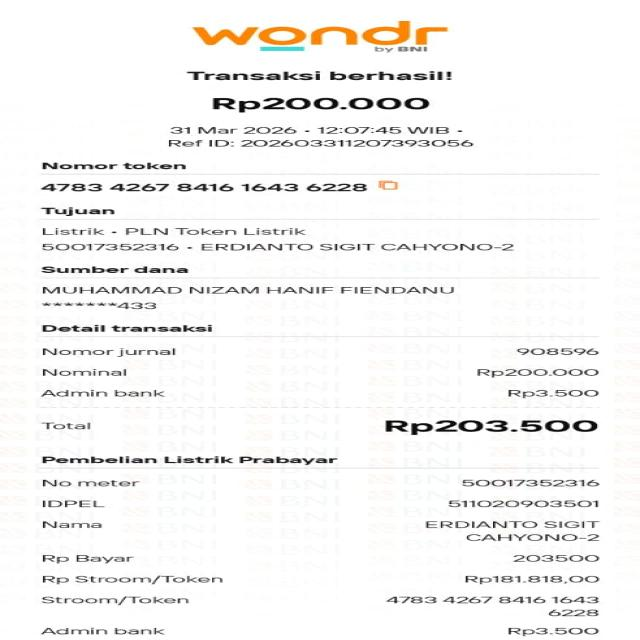date: (156, 125, 466, 138)
store: (179, 20, 469, 54)
total: (32, 414, 608, 437)
